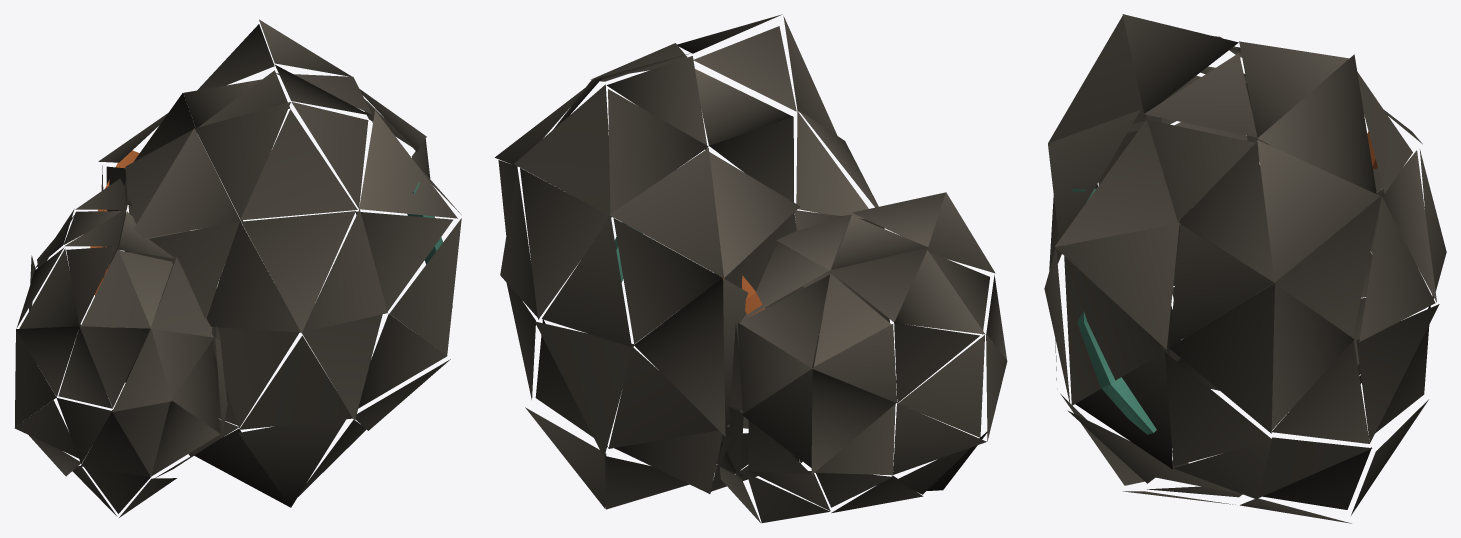
File: standard-lod2.glb
3 renders of one model, left to right at view 1: azimuth 30°, elevation 25°; view 2: azimuth 150°, elevation 25°; view 3: azimuth 270°, elevation 25°, orthographic. The views are drawn at different scales.
Parts seen in each view (by area): view 1: copper-host-rock, copper-mineral-seams; view 2: copper-host-rock; view 3: copper-host-rock, copper-mineral-seams.
Boxes of the visible parts, bbox=[...] form: copper-host-rock: bbox=[14, 19, 461, 517]; copper-mineral-seams: bbox=[90, 150, 452, 327]; copper-host-rock: bbox=[495, 14, 1007, 523]; copper-host-rock: bbox=[1044, 14, 1446, 523]; copper-mineral-seams: bbox=[1072, 131, 1377, 434].
Size of the model in its own units: 3.27 by 2.94 by 2.25.
